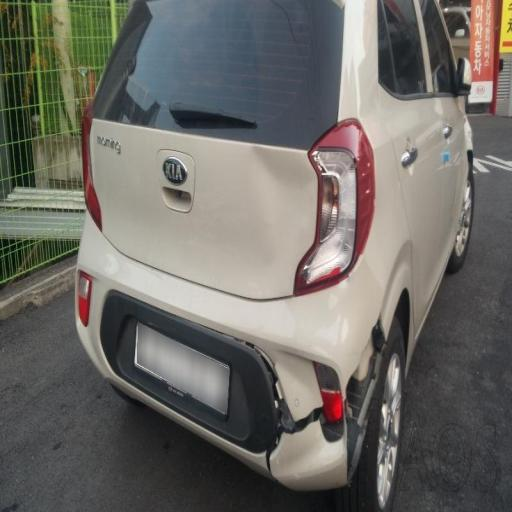broken: (250, 339, 374, 482)
dent: (207, 107, 331, 240)
